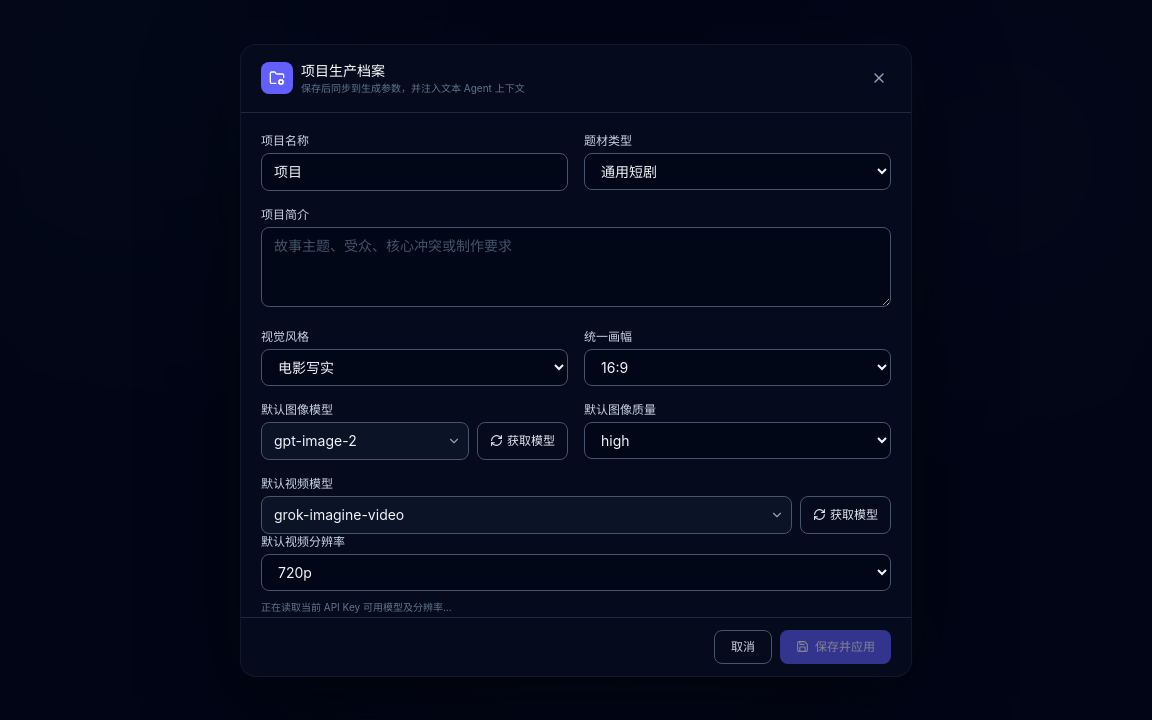
Test case: reports a failed save once, without an Error: prefix
Check: the button "保存并应用" is disabled, box [780,630,891,664]
Replace the text in the field showing "项目" with "新项目": (414, 172) [261,152,568,190]
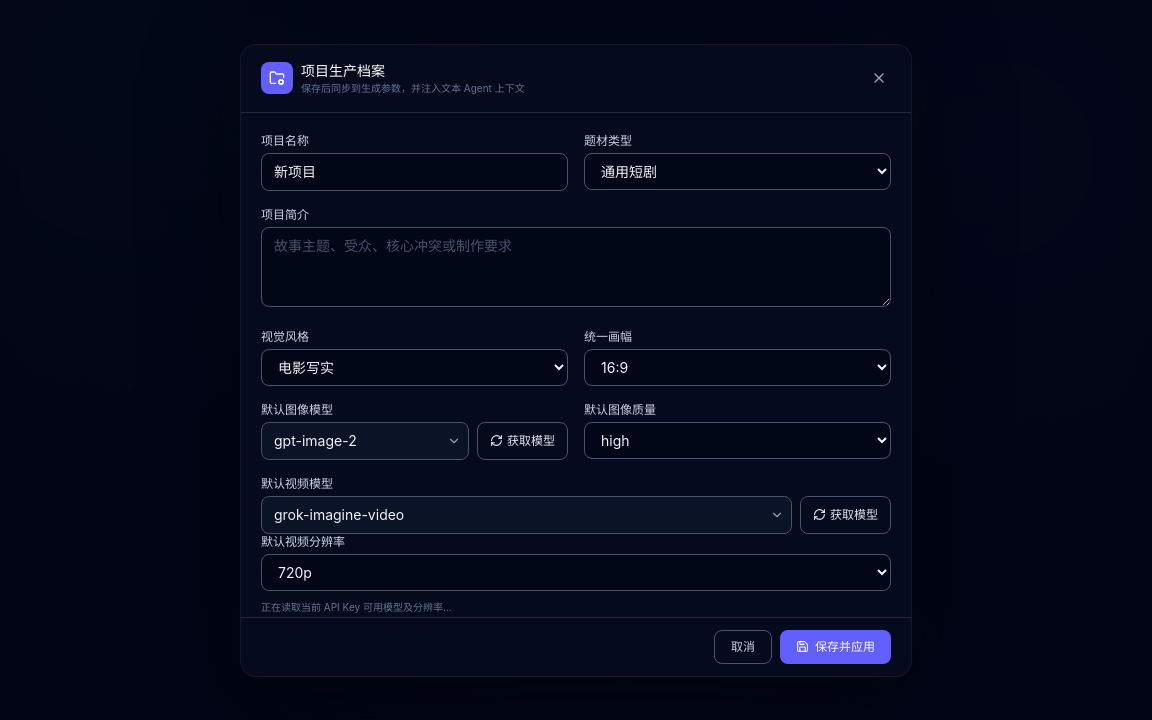
Click the button "保存并应用": (836, 646) [780,630,891,664]
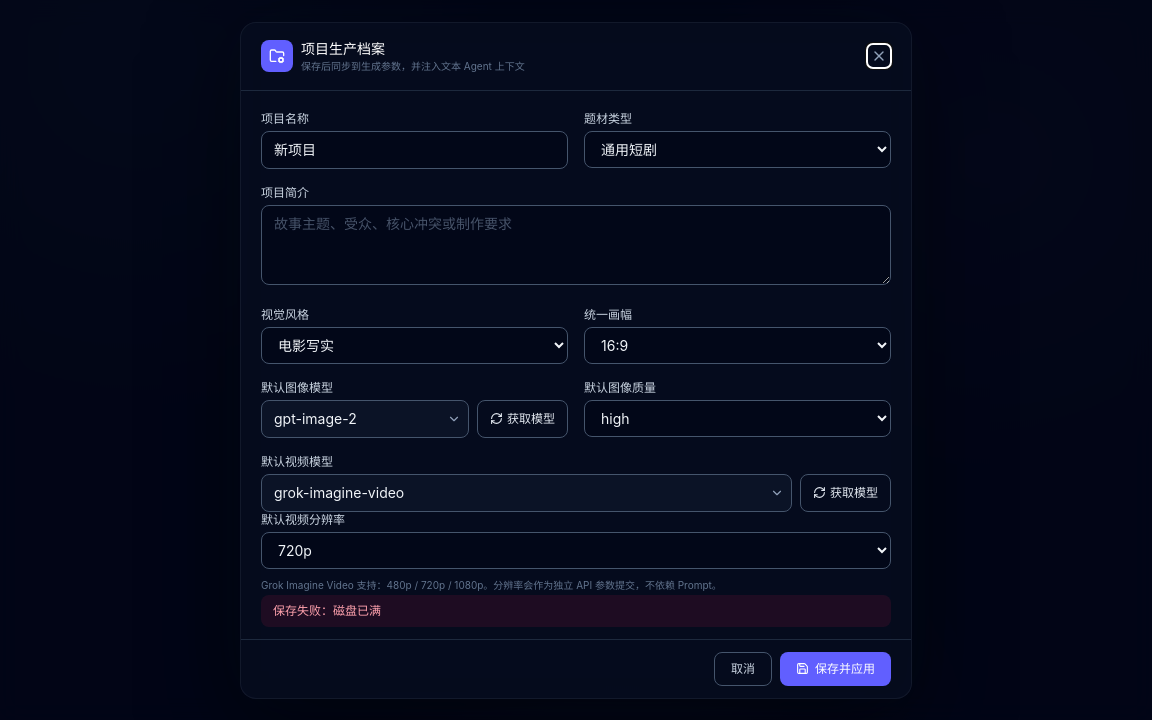
Check: the message reads "保存失败：磁盘已满", box [261,594,891,626]
Check: the number of messages is 1, box [261,594,891,626]
